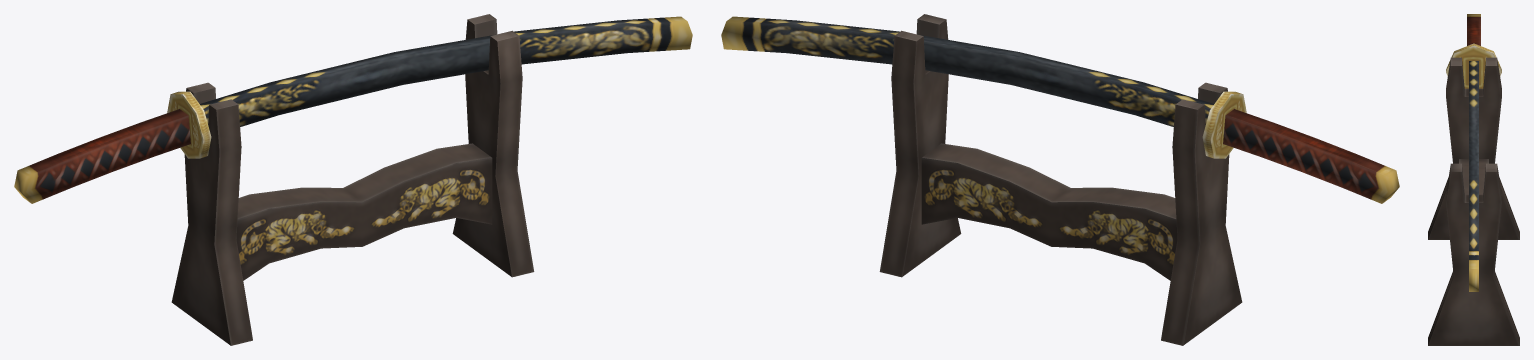
Rendered from JapaneseSwordKnife_HD.fbx.
3 views of the same model, side by side, from view 1: azimuth 30°, elevation 25°; view 2: azimuth 150°, elevation 25°; view 3: azimuth 270°, elevation 25° (orthographic). The views are drawn at different scales.
Parts seen in each view (by area): view 1: JapaneseSwordKnife; view 2: JapaneseSwordKnife; view 3: JapaneseSwordKnife.
Boxes of the visible parts, box(x1,y1,x2,y2) form: JapaneseSwordKnife: box(14, 14, 692, 345); JapaneseSwordKnife: box(721, 14, 1399, 345); JapaneseSwordKnife: box(1428, 14, 1519, 345).
Size of the model in its own units: 1.59 by 0.5328 by 0.244.
